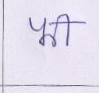i_matra: (58, 13, 74, 46)
